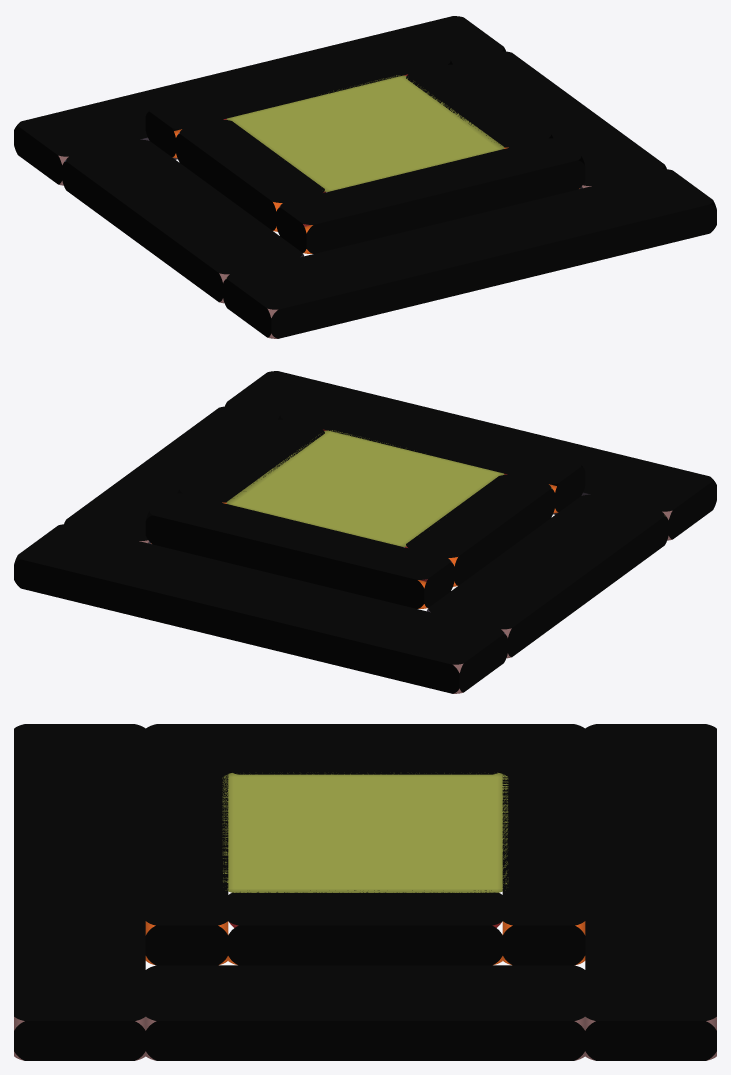
Rendered from 015-ALL.obj.
3 renders of one model, top to bottom at view 1: azimuth 30°, elevation 25°; view 2: azimuth 150°, elevation 25°; view 3: azimuth 270°, elevation 25°, orthographic. The views are drawn at different scales.
Parts seen in each view (by area): view 1: Roof; view 2: Roof; view 3: Roof.
Part boxes in pixels (x1=…): Roof: x1=14, y1=16, x2=716, y2=338; Roof: x1=14, y1=371, x2=716, y2=693; Roof: x1=14, y1=724, x2=716, y2=1060.
Size of the model in its own units: 2 by 0.25 by 2.
1 material, 1 textured.
